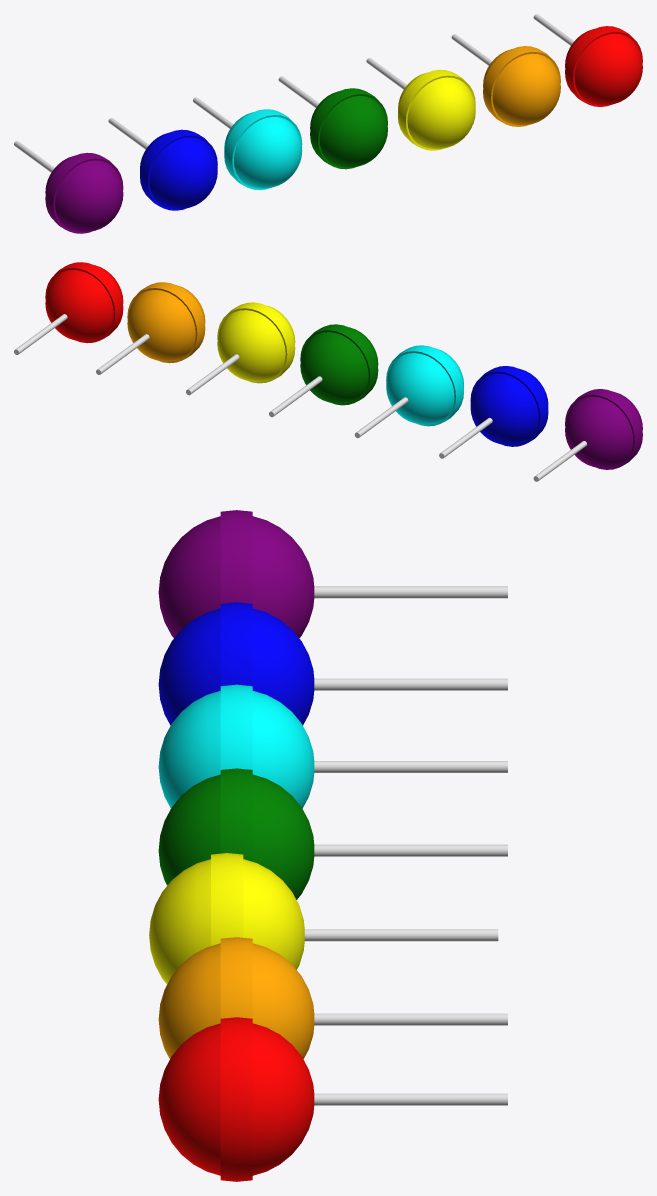
Rendered from can.glb.
The picture shows the model from 3 angles, top to bottom: view 1: azimuth 30°, elevation 25°; view 2: azimuth 150°, elevation 25°; view 3: azimuth 270°, elevation 25°; orthographic projection. The views are drawn at different scales.
Parts seen in each view (by area): view 1: 球.007, 球.002, 球.004, 球.003, 球.001, 球.005, 球.006; view 2: 球.004, 球.006, 球.005, 球.001, 球.003, 球.002, 球.007; view 3: 球.006, 球.007, 球.002, 球.003, 球.004, 球.001, 球.005.
Part boxes in pixels (left/top/right/bottom): 球.007: left=14, top=141, right=123, bottom=233; 球.002: left=278, top=76, right=387, bottom=169; 球.004: left=108, top=118, right=217, bottom=210; 球.003: left=366, top=58, right=475, bottom=150; 球.001: left=193, top=97, right=302, bottom=190; 球.005: left=451, top=34, right=560, bottom=126; 球.006: left=533, top=14, right=642, bottom=106; 球.004: left=439, top=366, right=548, bottom=458; 球.006: left=14, top=262, right=123, bottom=354; 球.005: left=96, top=282, right=205, bottom=374; 球.001: left=354, top=345, right=463, bottom=438; 球.003: left=186, top=302, right=295, bottom=395; 球.002: left=269, top=324, right=378, bottom=417; 球.007: left=533, top=389, right=642, bottom=481; 球.006: left=158, top=1017, right=507, bottom=1181; 球.007: left=158, top=510, right=507, bottom=638; 球.002: left=158, top=768, right=507, bottom=899; 球.003: left=149, top=853, right=498, bottom=984; 球.004: left=158, top=602, right=507, bottom=725; 球.001: left=158, top=684, right=507, bottom=808; 球.005: left=158, top=937, right=507, bottom=1059.
Bounding box in the file's own units: 17.47 × 2.13 × 4.59.
